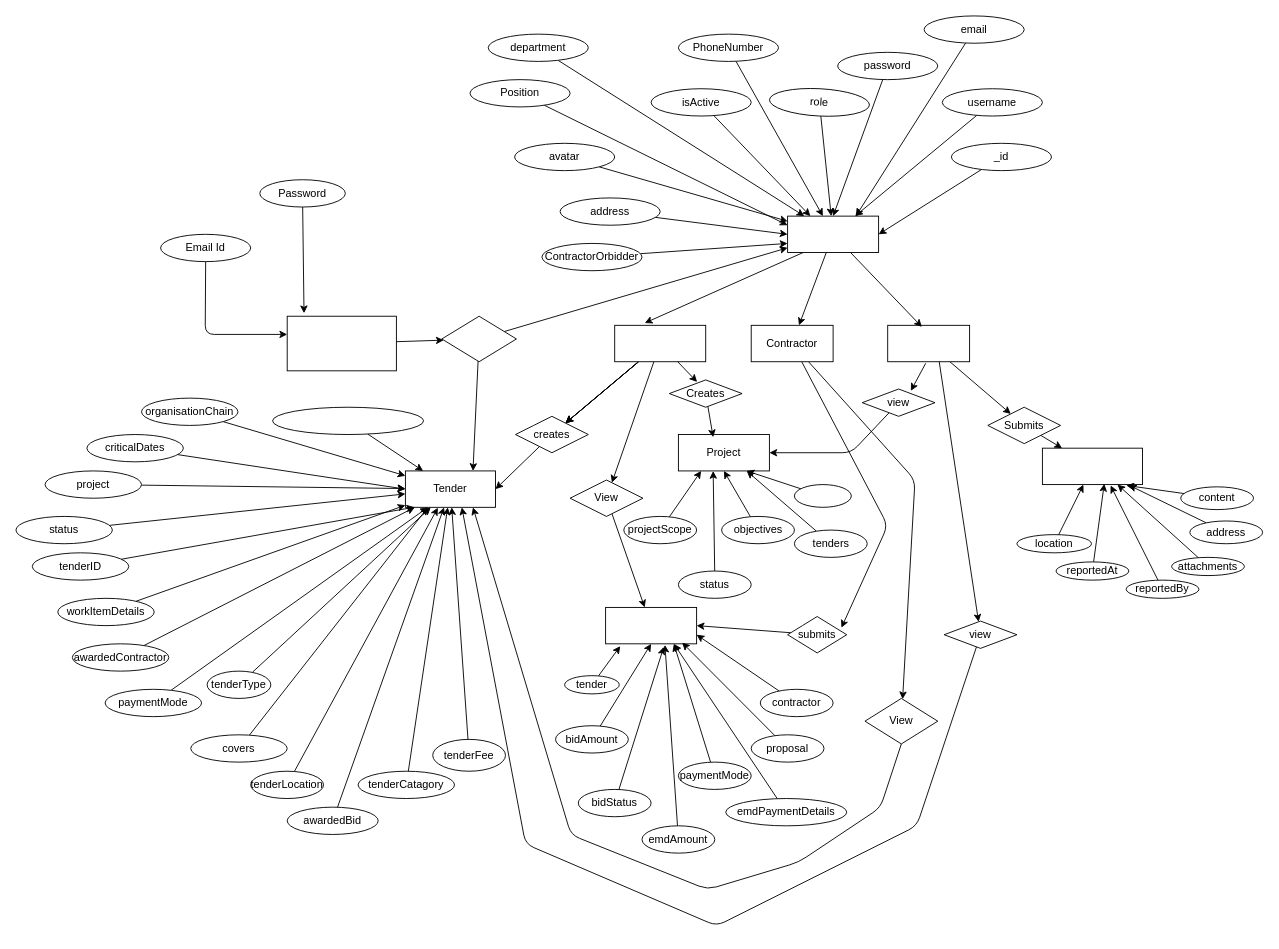
The diagram is 1279 pixels wide and 949 high, and some of its shapes have lost their labels. The shapes that lost their labels are listed below. From the top down, each one's centre as x and y in pixels, then its label:
[833,234]: User
[341,343]: Admin
[478,338]: Manages
[660,343]: Government Authority
[928,343]: Citizen
[348,420]: tenderReferenceNumber
[1092,466]: Report
[822,495]: budget
[651,625]: Bid
